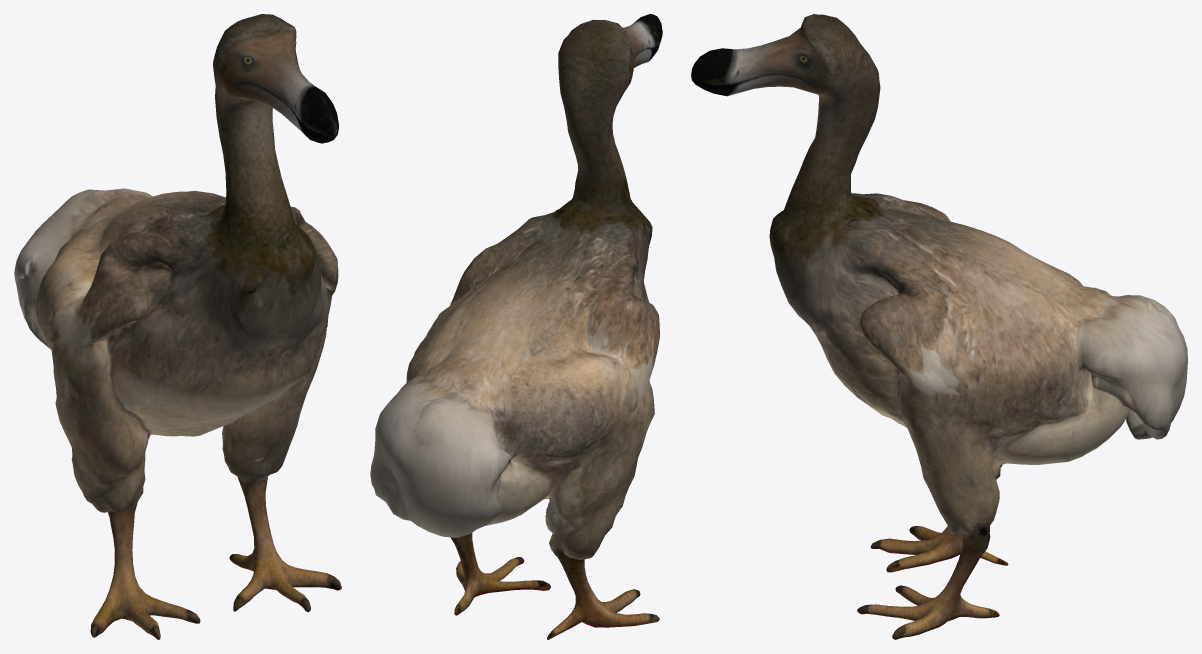
File: dodo_based_on_a_reconstructed_3d_scan.glb
3 views of the same model, side by side, from view 1: azimuth 30°, elevation 25°; view 2: azimuth 150°, elevation 25°; view 3: azimuth 270°, elevation 25° (orthographic). The views are drawn at different scales.
Parts seen in each view (by area): view 1: Dodo_LP_RTP__by_cenz-at_0; view 2: Dodo_LP_RTP__by_cenz-at_0; view 3: Dodo_LP_RTP__by_cenz-at_0.
Part boxes in pixels (left/top/right/bottom): Dodo_LP_RTP__by_cenz-at_0: left=14, top=14, right=341, bottom=639; Dodo_LP_RTP__by_cenz-at_0: left=370, top=14, right=662, bottom=639; Dodo_LP_RTP__by_cenz-at_0: left=691, top=14, right=1187, bottom=639.
Size of the model in its own units: 0.3573 by 0.8534 by 0.6745.
1 material, 1 textured.
